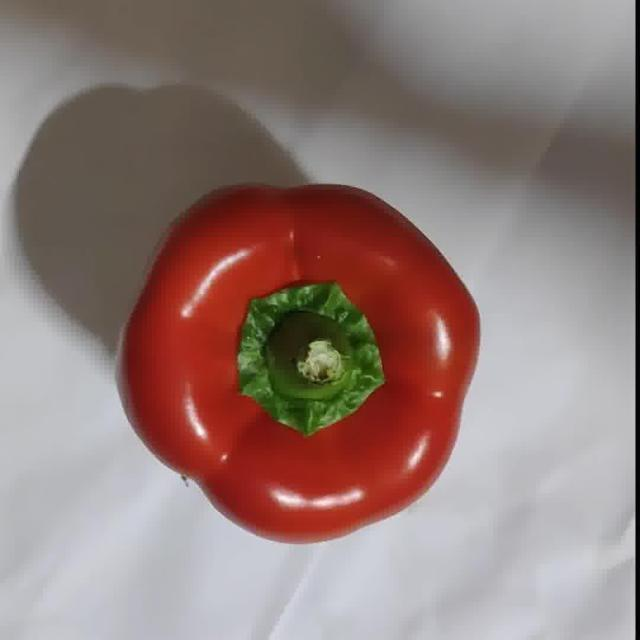Bell Pepper: (123, 185, 479, 542)
